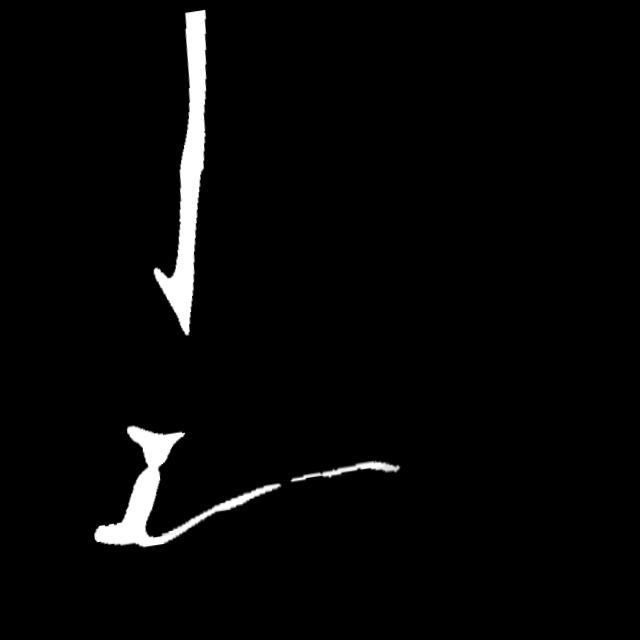sup: (278, 474, 307, 495)
